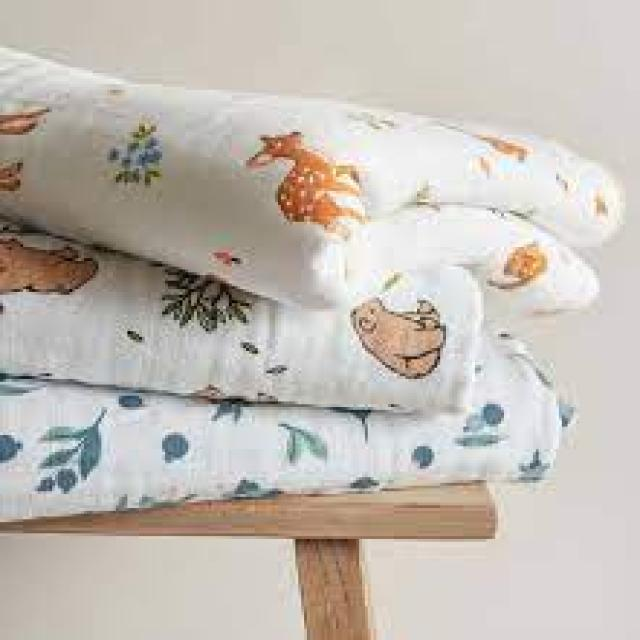blanket: (1, 50, 623, 309), (1, 351, 568, 519), (1, 235, 483, 410)
